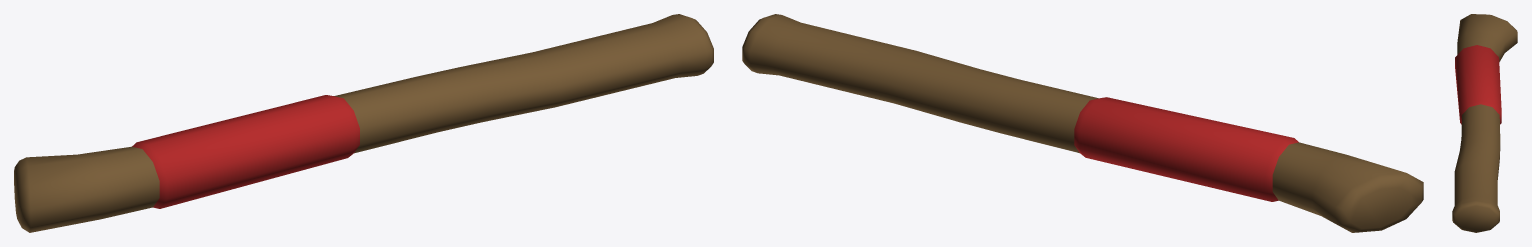
The model's file is ToyHandleTool.FBX.
3 renders of one model, left to right at view 1: azimuth 30°, elevation 25°; view 2: azimuth 150°, elevation 25°; view 3: azimuth 270°, elevation 25°, orthographic. The views are drawn at different scales.
Visible parts, largest first — view 1: AxeHandle; view 2: AxeHandle; view 3: AxeHandle.
Part boxes in pixels (box(x1,y1,x2,y2)): AxeHandle: box(14, 14, 713, 232); AxeHandle: box(742, 14, 1423, 232); AxeHandle: box(1452, 14, 1517, 232).
Bounding box in the file's own units: 190 × 16.34 × 26.81.
